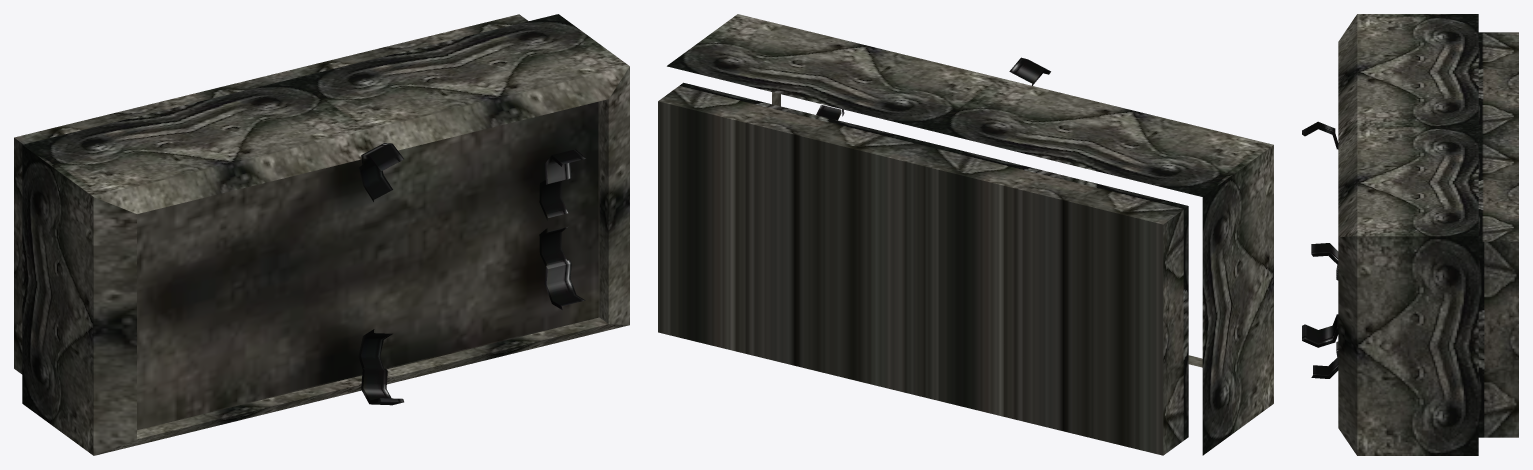
3 renders of one model, left to right at view 1: azimuth 30°, elevation 25°; view 2: azimuth 150°, elevation 25°; view 3: azimuth 270°, elevation 25°, orthographic. The views are drawn at different scales.
Visible parts, largest first — view 1: model_Object20; view 2: model_Object20; view 3: model_Object20.
Boxes of the visible parts, bbox=[...] form: model_Object20: bbox=[14, 14, 629, 455]; model_Object20: bbox=[658, 14, 1273, 455]; model_Object20: bbox=[1302, 14, 1518, 455].
Bounding box in the file's own units: 2.29 × 1.07 × 0.9442.
Materials: 3 (3 with a texture image).
